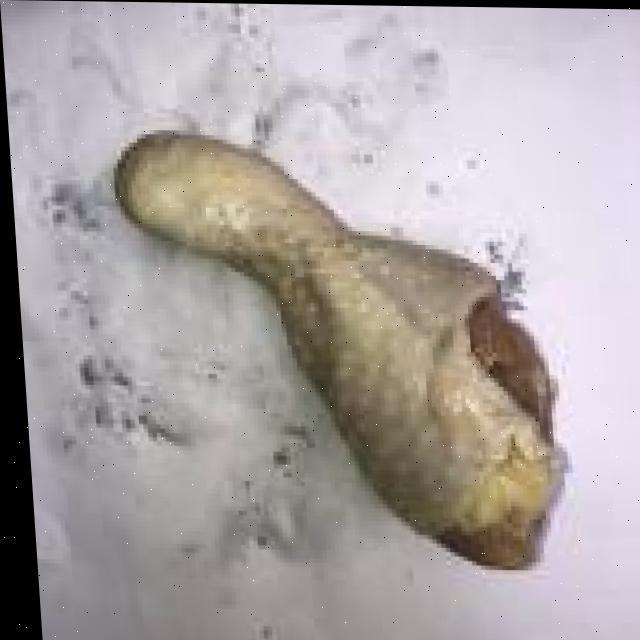leg: (109, 126, 566, 577)
